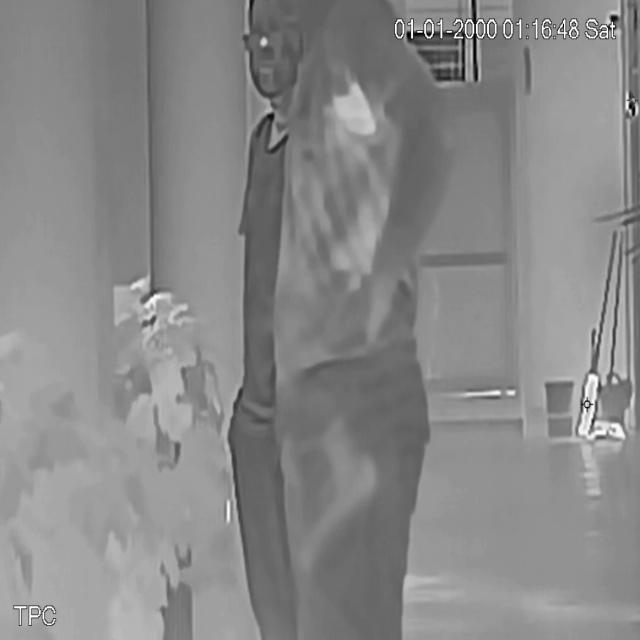Weapon: (284, 404, 385, 602)
